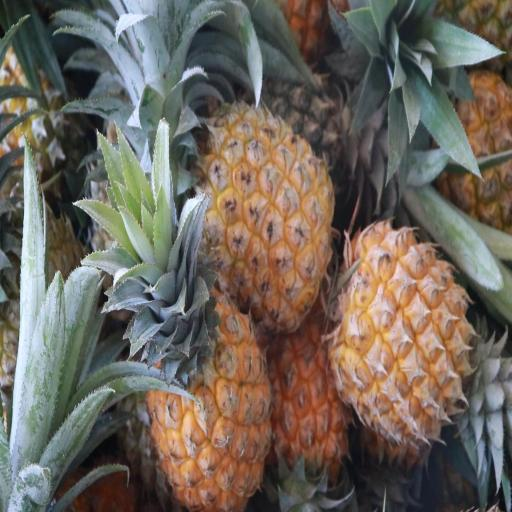Pineapple - v8 v1: (147, 238, 274, 507), (196, 91, 339, 329), (338, 220, 480, 449), (269, 319, 354, 507)
